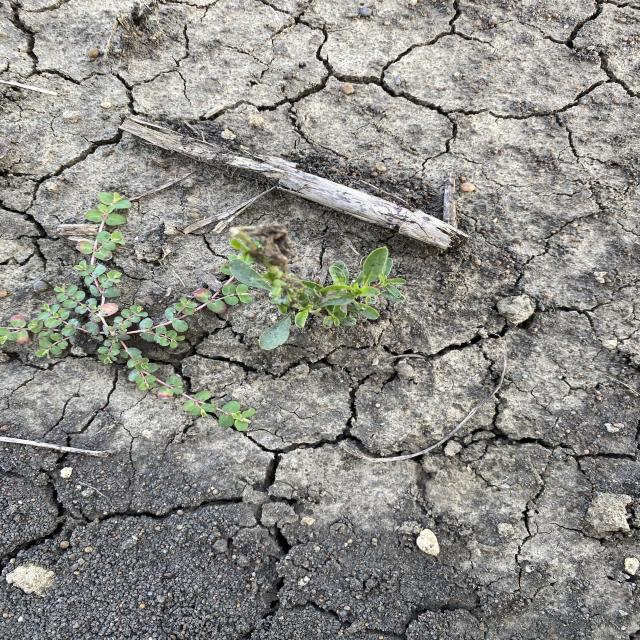SpottedSpurge: (1, 190, 258, 433)
Waterhemp: (218, 222, 408, 351)
